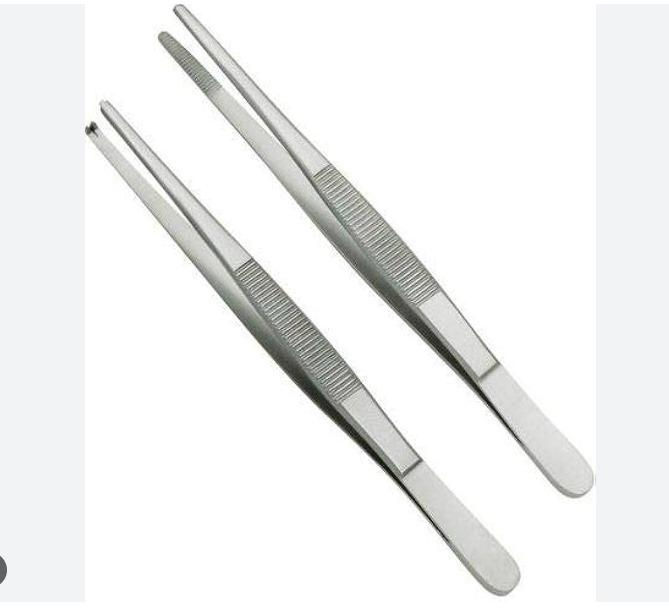Dissecting Forceps Plain: (155, 2, 600, 505)
Dissecting Forceps Tooth: (78, 96, 525, 594)
